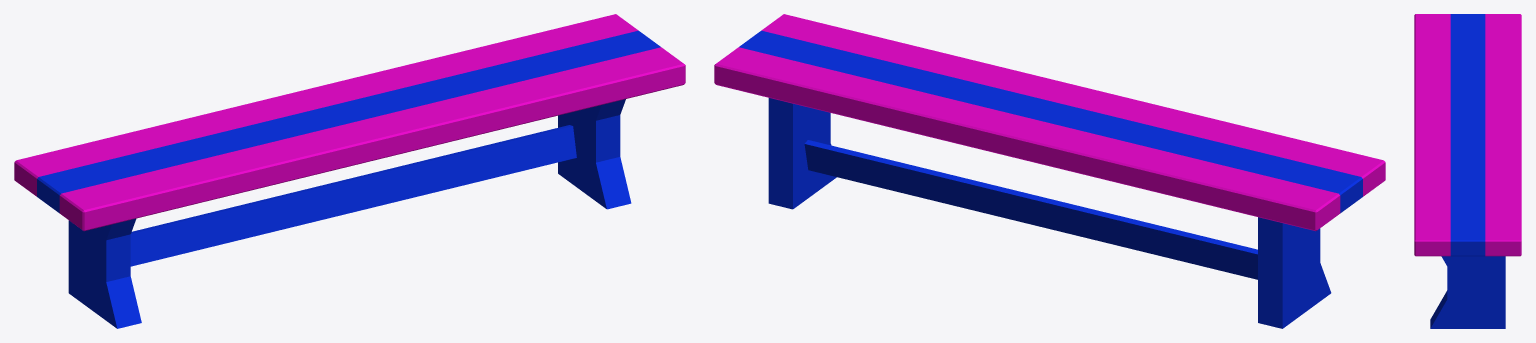
Rendered from bench_high.fbx.
3 views of the same model, side by side, from view 1: azimuth 30°, elevation 25°; view 2: azimuth 150°, elevation 25°; view 3: azimuth 270°, elevation 25° (orthographic). The views are drawn at different scales.
Parts seen in each view (by area): view 1: Bench_High; view 2: Bench_High; view 3: Bench_High.
Part boxes in pixels (box(x1,y1,x2,y2)): Bench_High: box(14, 14, 685, 328); Bench_High: box(714, 14, 1385, 328); Bench_High: box(1414, 14, 1521, 328).
Size of the model in its own units: 203 by 43.82 by 40.63.
